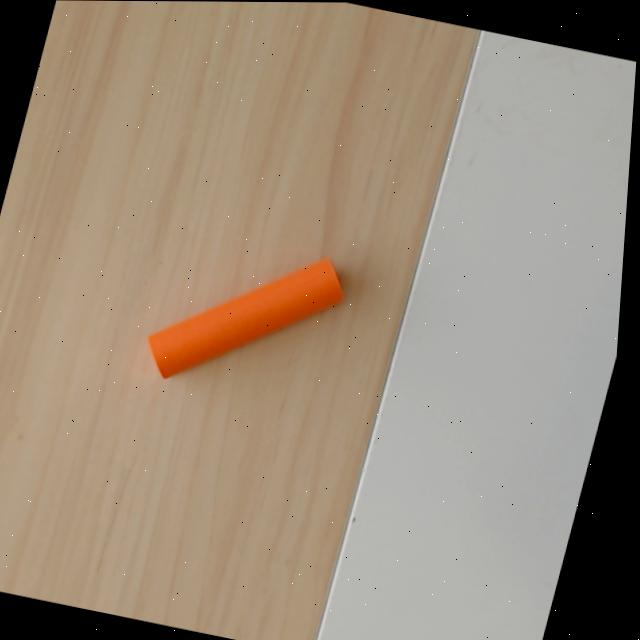Silinder-Jingga-10025: (145, 256, 348, 380)
